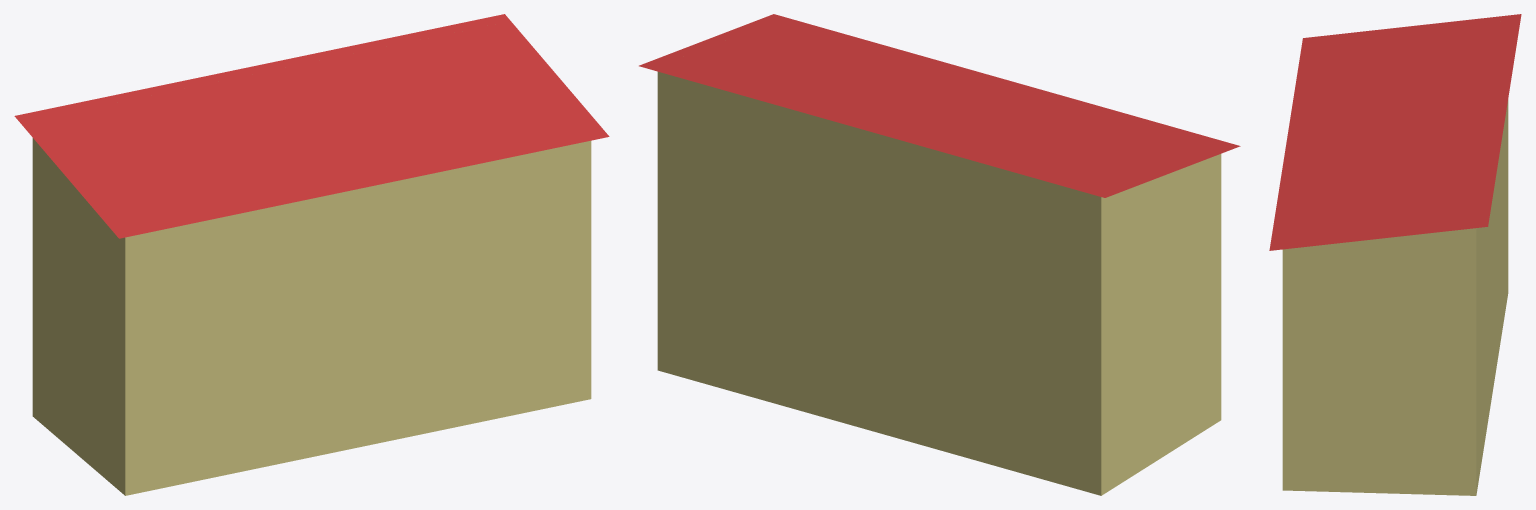
3 renders of one model, left to right at view 1: azimuth 30°, elevation 25°; view 2: azimuth 150°, elevation 25°; view 3: azimuth 270°, elevation 25°, orthographic. The views are drawn at different scales.
Size of the model in its own units: 10.3 by 5.01 by 6.03.
